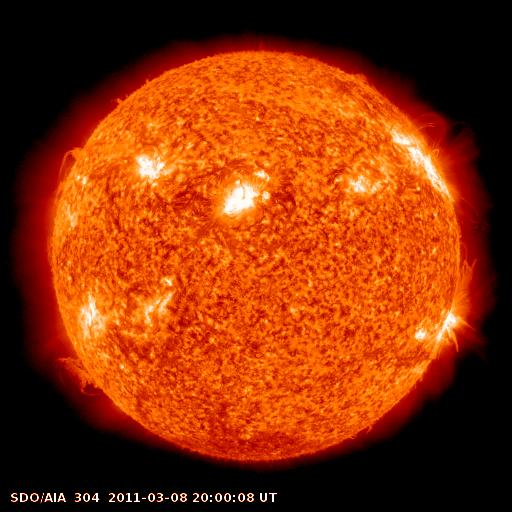prominence: (405, 95, 494, 238), (35, 138, 93, 269), (442, 242, 495, 339), (47, 345, 109, 408), (341, 58, 382, 96)
